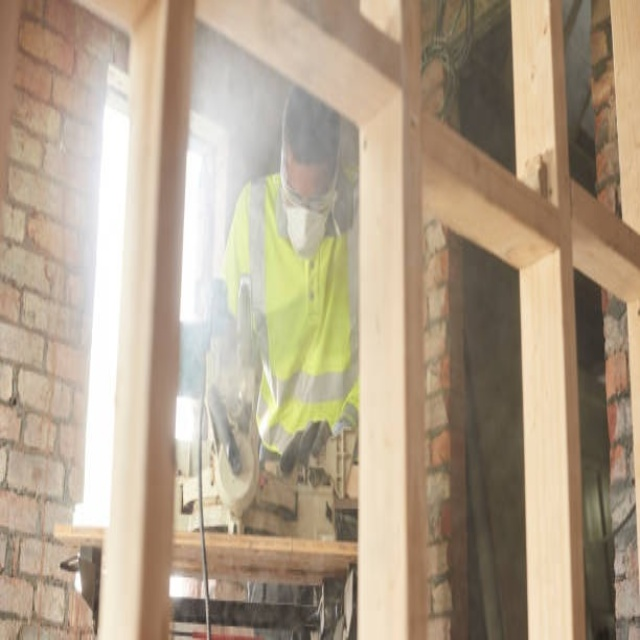Gafas: (279, 140, 339, 216)
Guantes: (279, 417, 332, 476)
Mascara: (282, 186, 332, 257)
